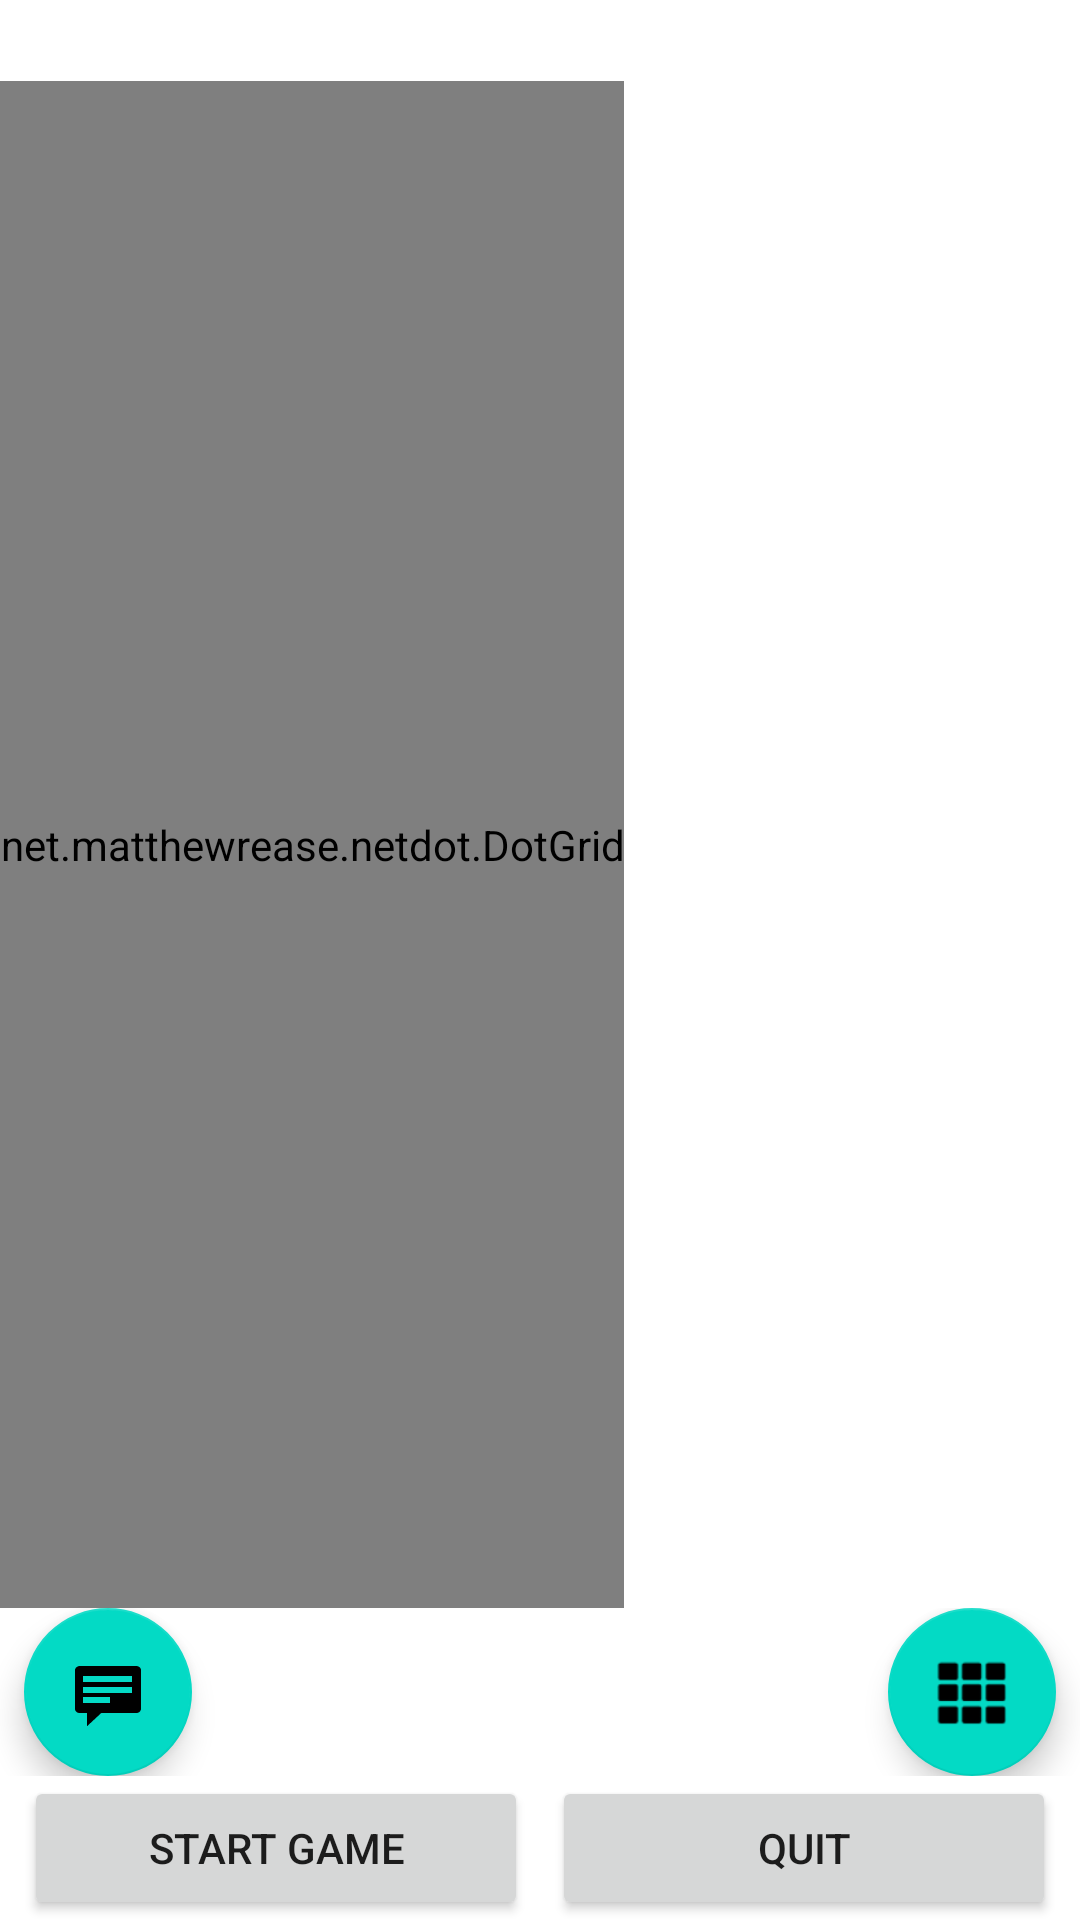

Icons on this 1080x1920 Android screen, each with the point to tap as [x,y]:
Open chat screen: [108,1692]
